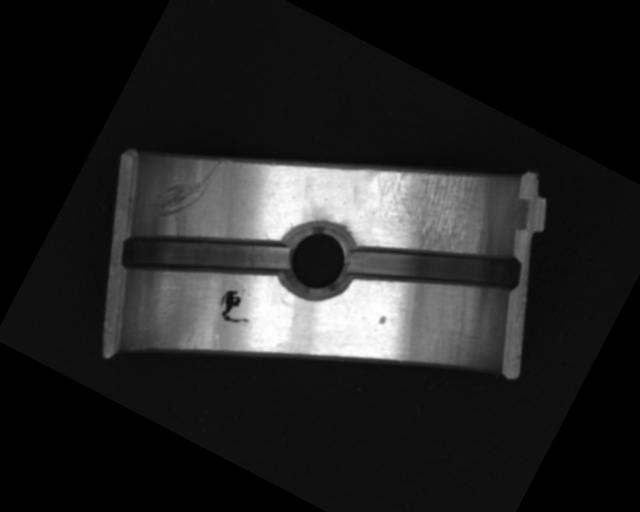blot: (212, 285, 261, 332)
bruise: (376, 313, 389, 327)
gap: (344, 190, 528, 345), (112, 179, 295, 334)
hole: (270, 215, 364, 309)
nick: (149, 140, 225, 233)
scratch: (351, 132, 509, 272)
